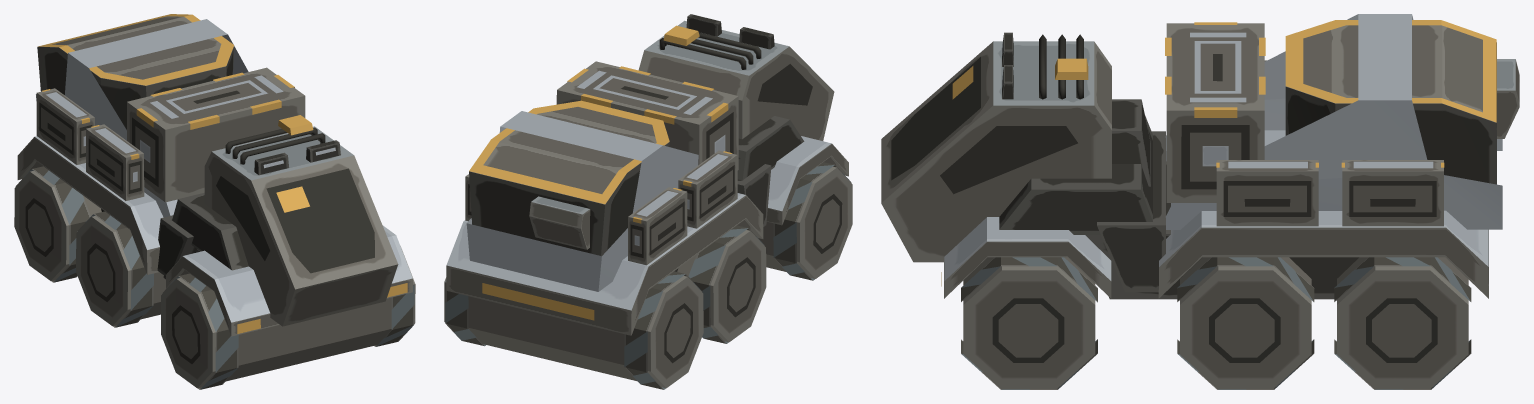
File: truck1.FBX
3 renders of one model, left to right at view 1: azimuth 30°, elevation 25°; view 2: azimuth 150°, elevation 25°; view 3: azimuth 270°, elevation 25°, orthographic. The views are drawn at different scales.
Visible parts, largest first — view 1: truck1, a, b, c, d; view 2: truck1, c, a, b, e, d; view 3: truck1, b, c, a, e, d.
Boxes of the visible parts, box(x1,y1,x2,y2) form: truck1: box(17, 14, 412, 336); a: box(161, 246, 415, 389); b: box(76, 211, 165, 327); c: box(14, 166, 101, 282); d: box(278, 115, 313, 135); truck1: box(446, 14, 848, 335); c: box(444, 271, 703, 389); a: box(758, 162, 852, 280); b: box(677, 225, 766, 343); e: box(529, 196, 590, 249); d: box(663, 25, 699, 45); truck1: box(881, 14, 1502, 299); b: box(1177, 257, 1314, 389); c: box(1334, 257, 1471, 389); a: box(961, 257, 1097, 389); e: box(1497, 59, 1519, 138); d: box(1055, 58, 1088, 79).
Bounding box in the file's own units: 45.3 × 95.51 × 45.85.
Materials: 1 (1 with a texture image).
